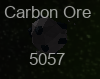Carbon: (4, 5, 91, 66)
